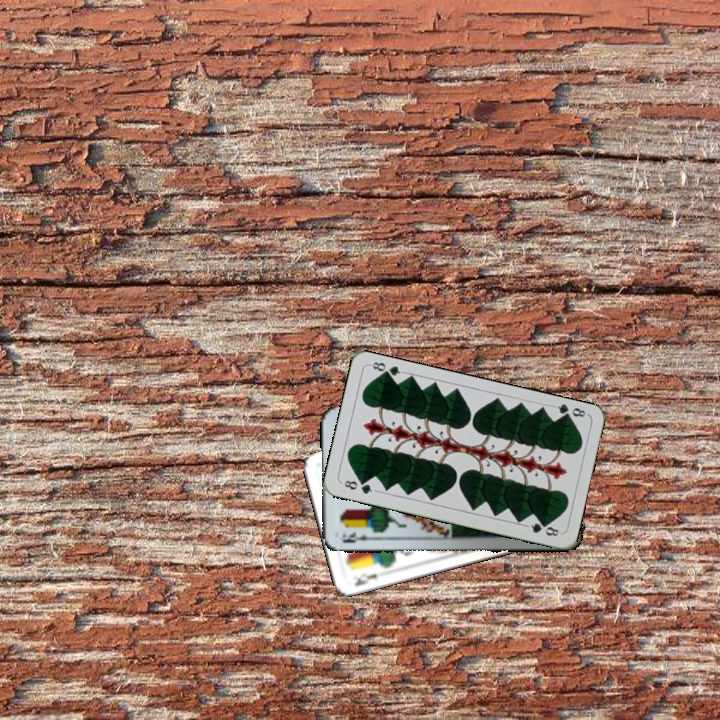EK: (336, 528, 376, 545), (349, 569, 380, 589)
G8: (550, 400, 590, 423), (338, 476, 378, 497)
